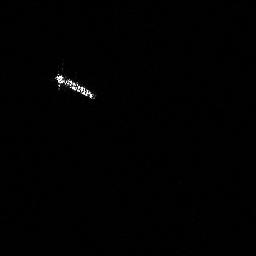ship: (50, 67, 99, 104)
